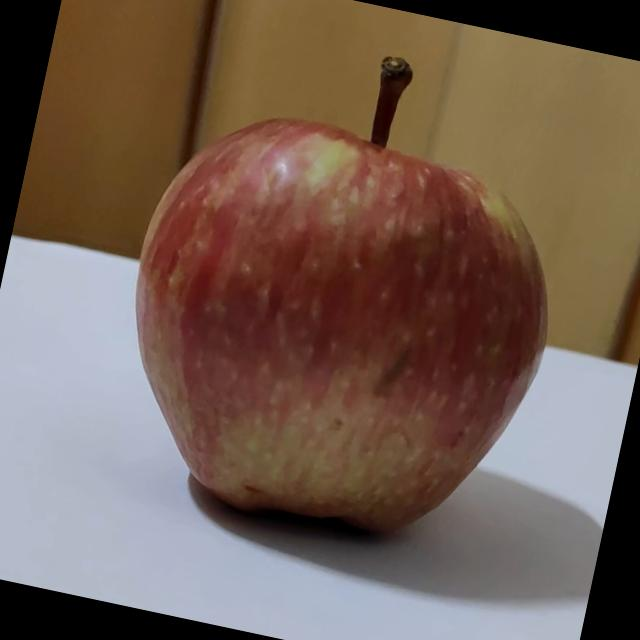apple: (90, 2, 600, 558)
